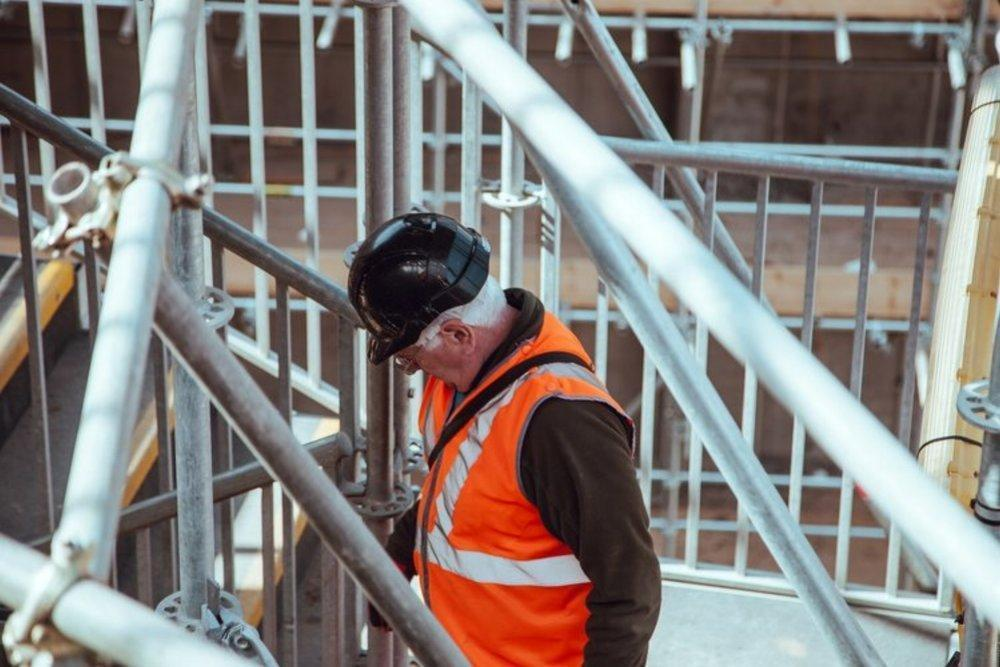Boots: (339, 201, 487, 361)
Glass: (421, 311, 609, 667)
